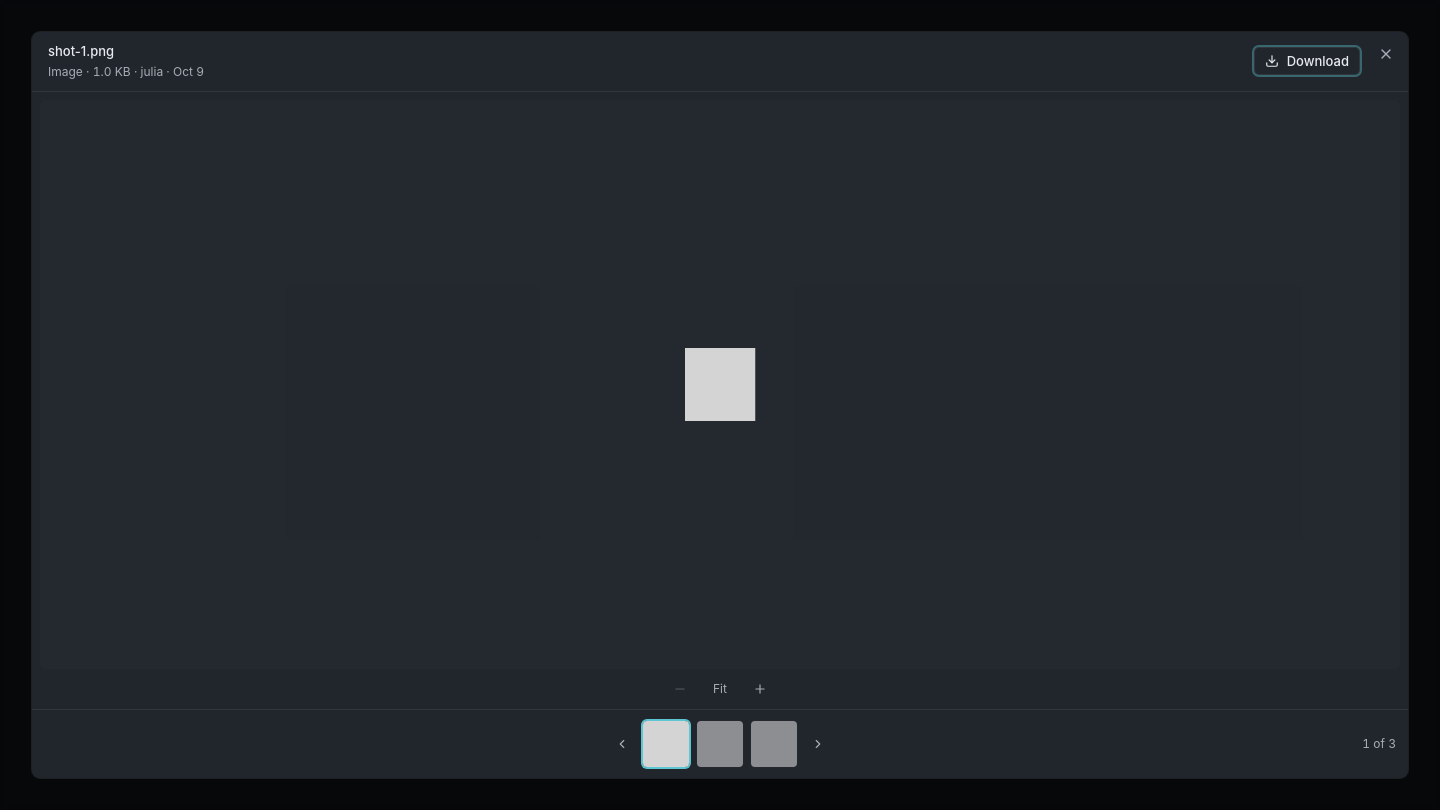
Scenario: <UploadPreviewDialog /> in a set › says where it is and steps with its arrows
Check: the text "1 of 3" is shown, box [1362,736,1396,751]
Click the button named "Next file" at (818, 744), box [806,732,830,756]
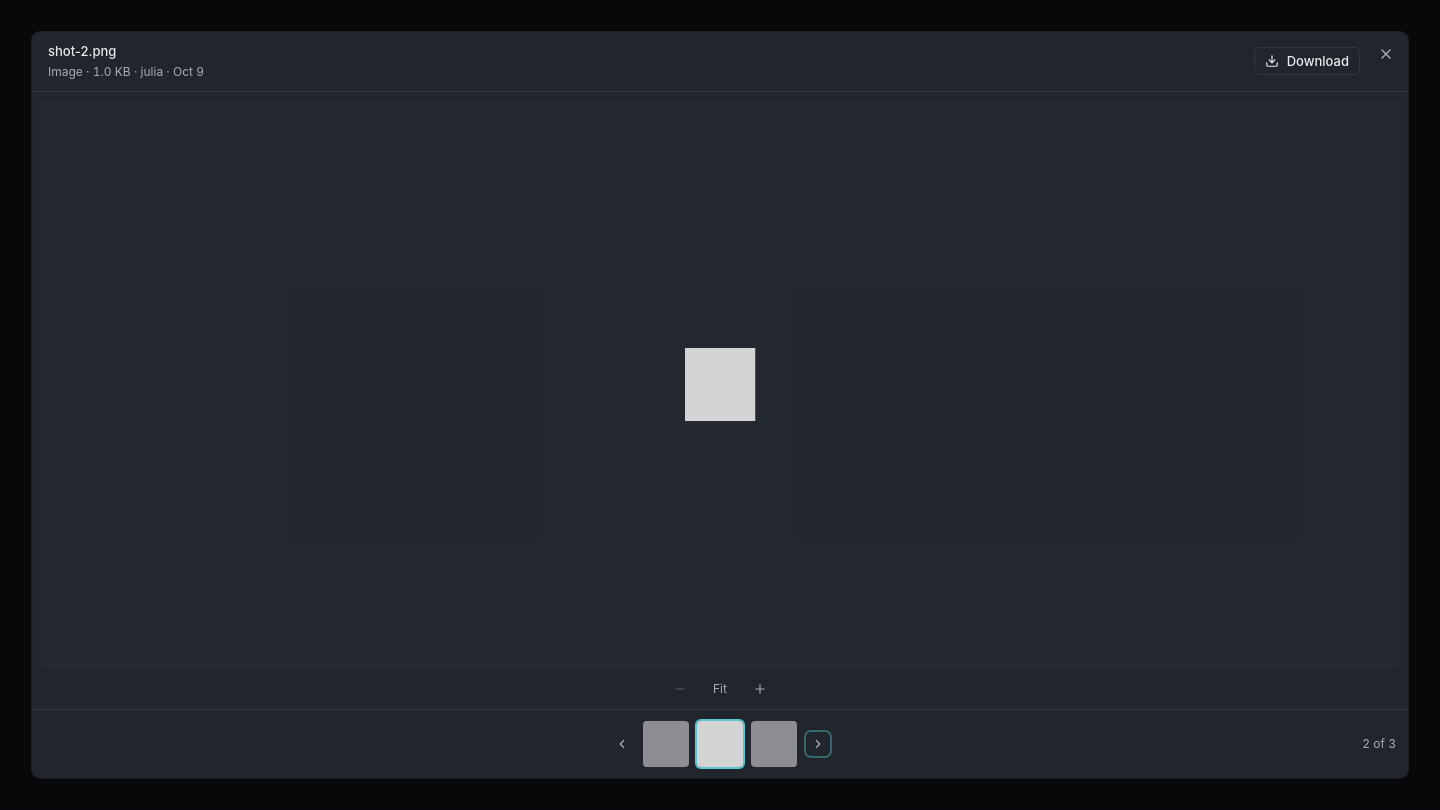
Check: the text "2 of 3" is shown, box [1362,736,1396,751]
Click the button named "Previous file" at (622, 744), box [610,732,634,756]
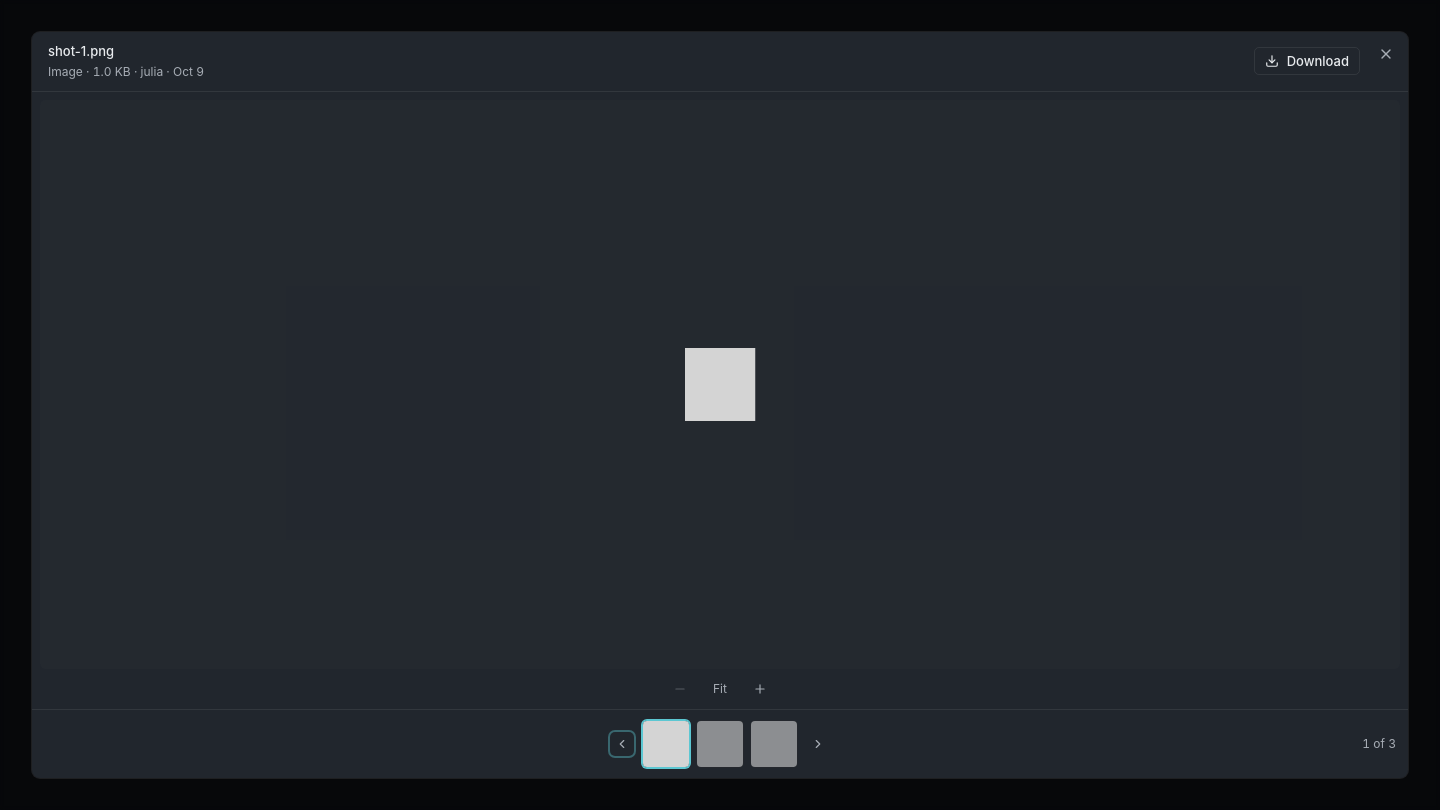
Click the button named "Previous file" at (622, 744), box [610,732,634,756]
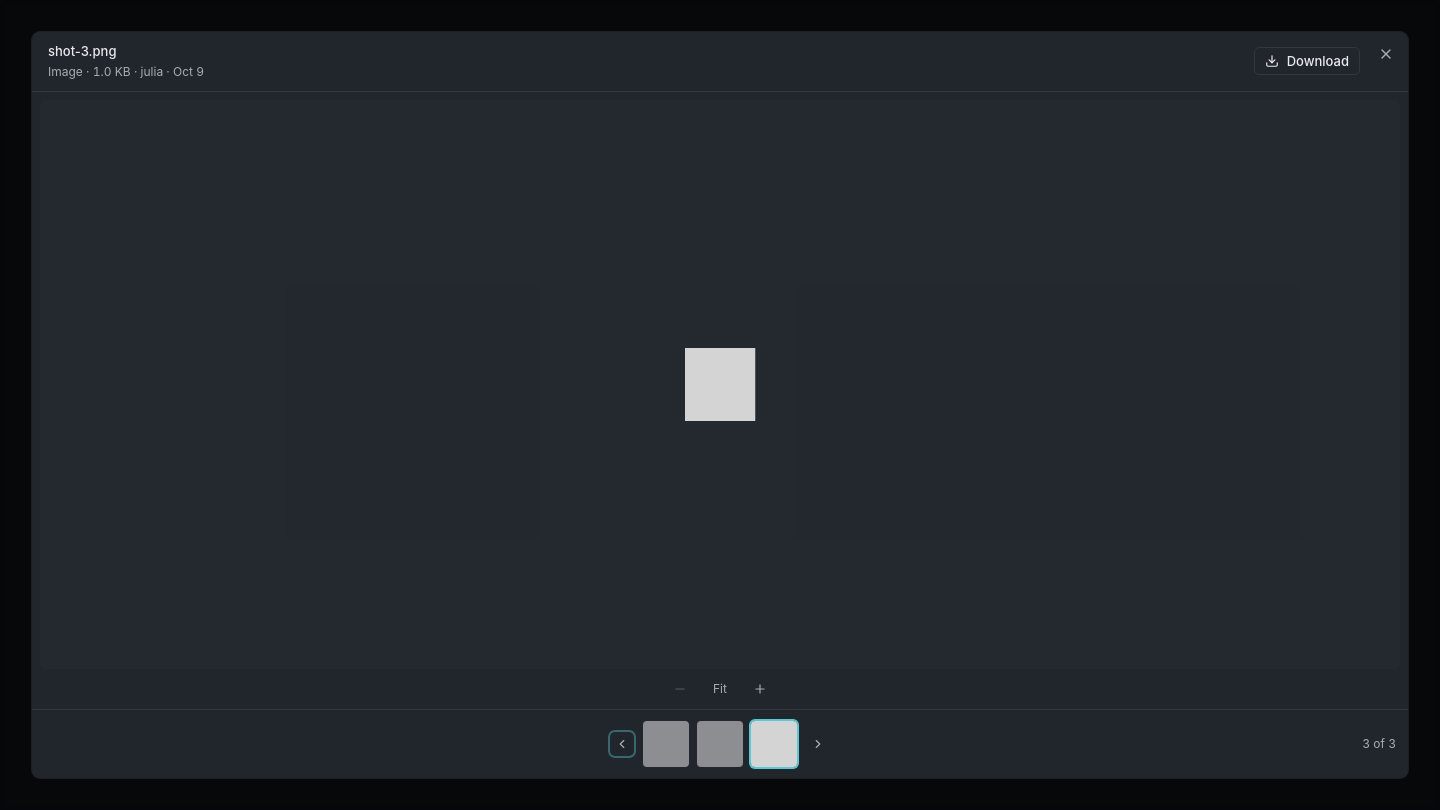
Check: the text "3 of 3" is shown, box [1362,736,1396,751]
